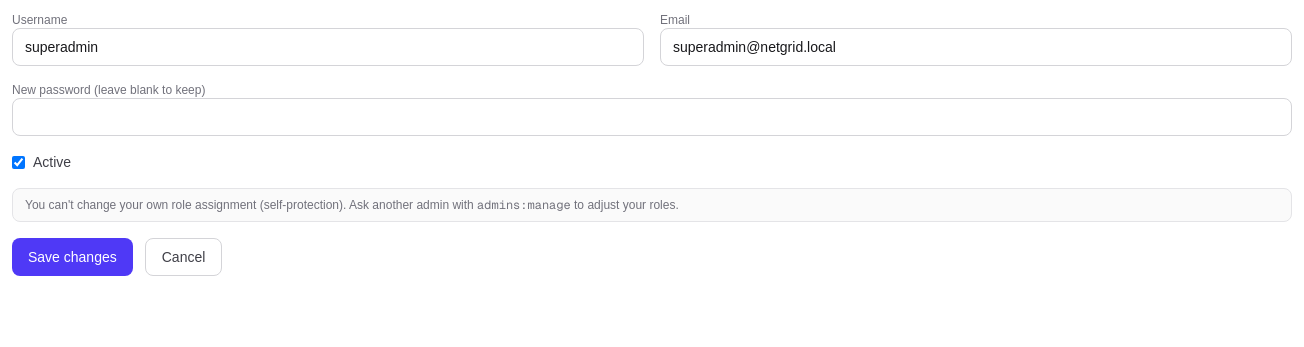
Scenario: AdminForm (edit) › surfaces the backend error and stays on the form
Click the button "Save changes".
click(72, 257)  # box [12,238,133,276]
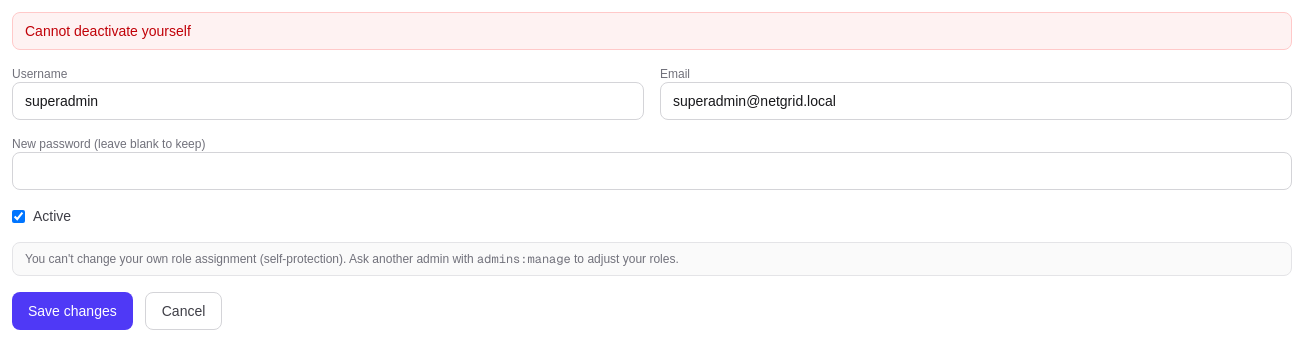
Now the message reads "Cannot deactivate yourself", box [25,23,191,39]
